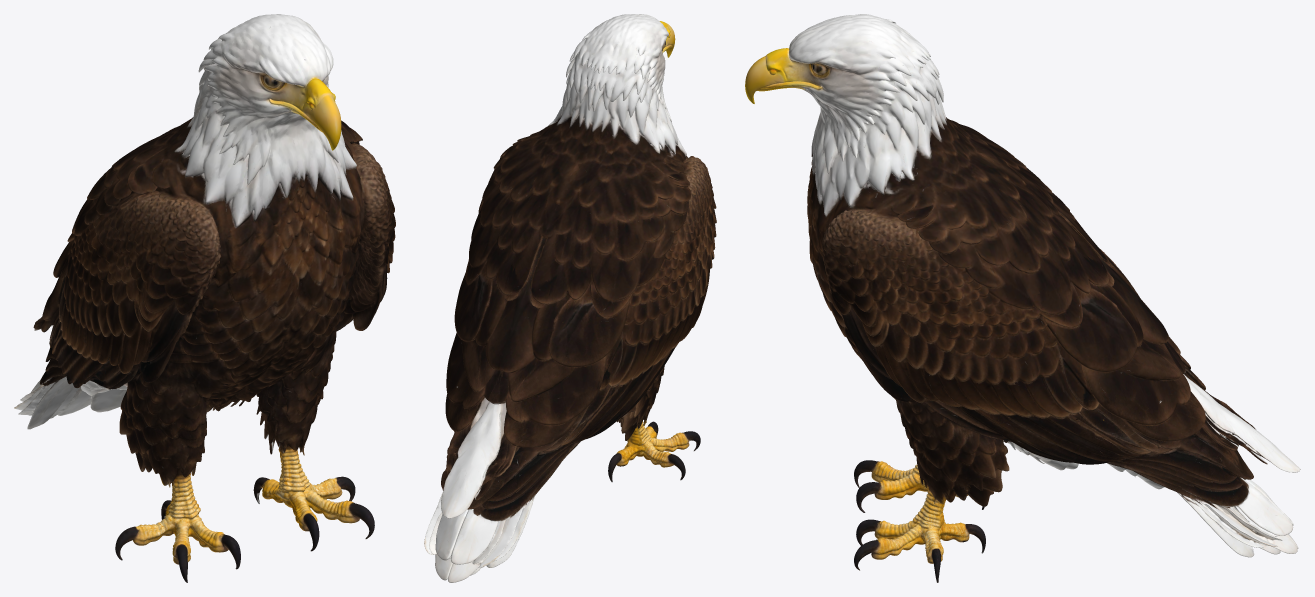
Rendered from eagle.glb.
The picture shows the model from 3 angles, left to right: view 1: azimuth 30°, elevation 25°; view 2: azimuth 150°, elevation 25°; view 3: azimuth 270°, elevation 25°; orthographic projection. The views are drawn at different scales.
Visible parts, largest first — view 1: eagle; view 2: eagle; view 3: eagle.
Part boxes in pixels (<box>): eagle: <box>14,14,395,582</box>; eagle: <box>424,14,716,582</box>; eagle: <box>745,14,1300,582</box>.
Size of the model in its own units: 0.404 by 0.8 by 0.76.
Materials: 1 (1 with a texture image).
